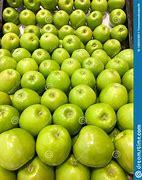apple: (74, 128, 114, 166), (0, 128, 30, 171), (39, 125, 71, 164), (94, 80, 130, 108), (86, 102, 117, 130), (22, 103, 50, 132), (10, 85, 44, 108), (65, 84, 95, 110), (100, 36, 128, 57), (57, 103, 82, 126), (39, 87, 64, 109), (67, 67, 93, 88), (0, 67, 23, 90), (17, 72, 45, 90), (30, 46, 54, 66), (109, 59, 134, 78), (95, 67, 119, 86), (82, 37, 105, 56), (91, 47, 115, 65), (20, 30, 40, 51), (45, 69, 67, 88), (113, 23, 135, 41), (74, 25, 97, 42), (50, 49, 70, 67), (18, 59, 40, 75), (82, 59, 105, 74), (62, 57, 81, 75), (13, 45, 36, 59), (73, 48, 89, 61), (41, 25, 56, 36)
